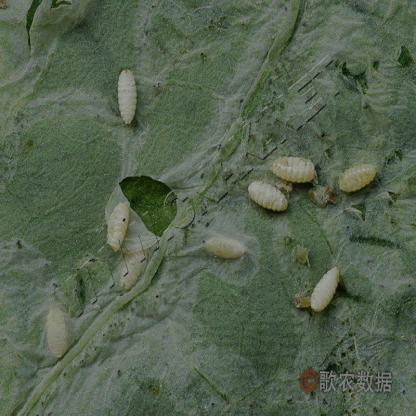whorl-maggot: (309, 252, 345, 319), (333, 158, 386, 199), (247, 170, 290, 216), (200, 225, 249, 264), (114, 60, 142, 128), (270, 147, 316, 186), (43, 304, 68, 360), (107, 202, 128, 253)
